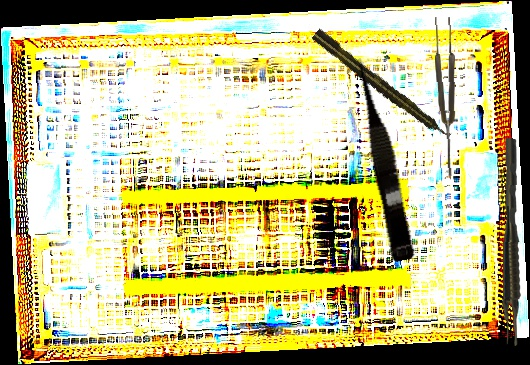Handpiece: (310, 27, 454, 144)
Micro Scissor: (349, 54, 420, 263)
Tissue Forceps: (501, 138, 524, 346), (433, 16, 459, 177)
